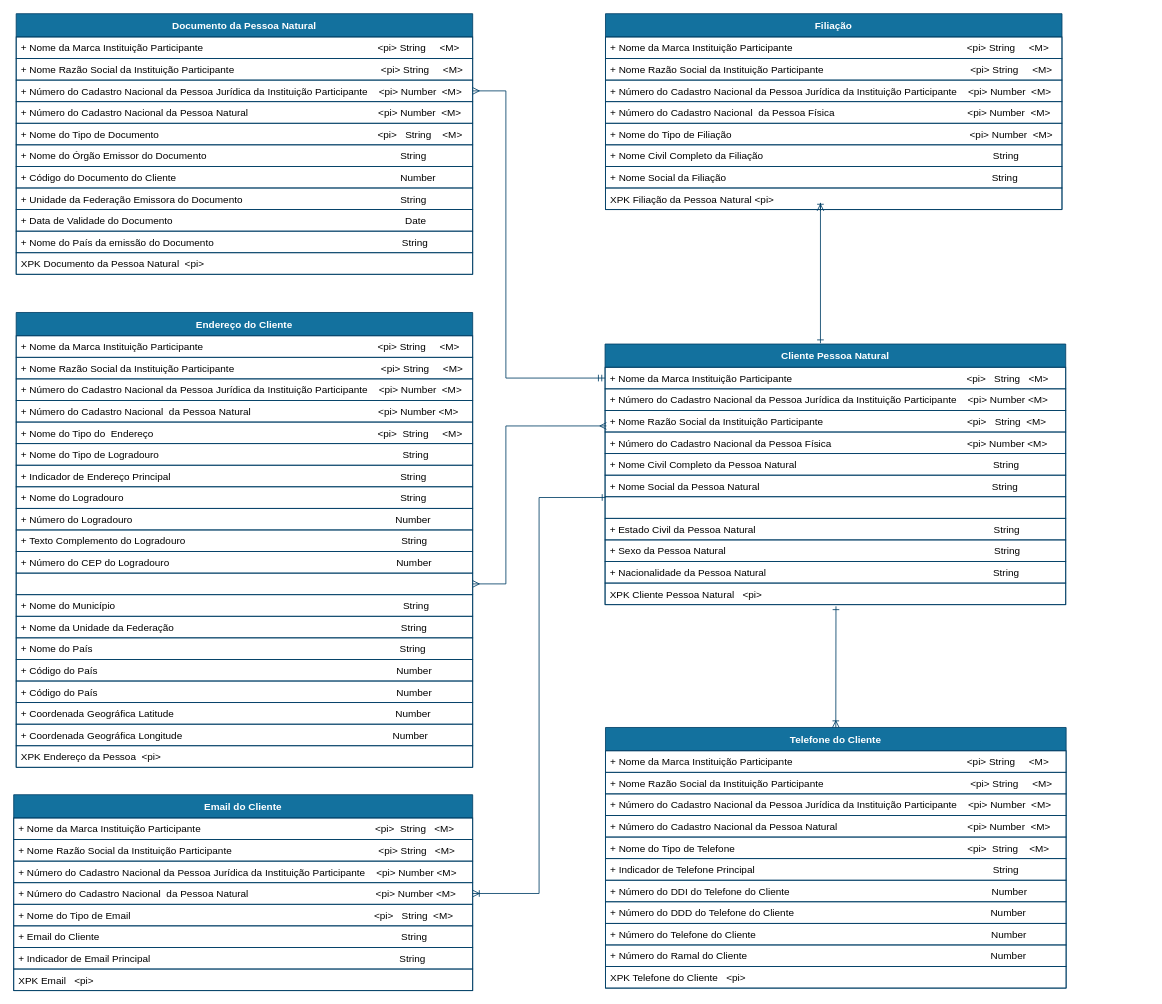
The diagram is 1162 pixels wide and 1004 high, and some of its shapes have lost their labels. The centre of each missing label's shape, as x and y in pixels:
+ Data de Nascimento da Pessoa Natural Date: point 835,507
+ Nome do Bairro String: point 244,583
